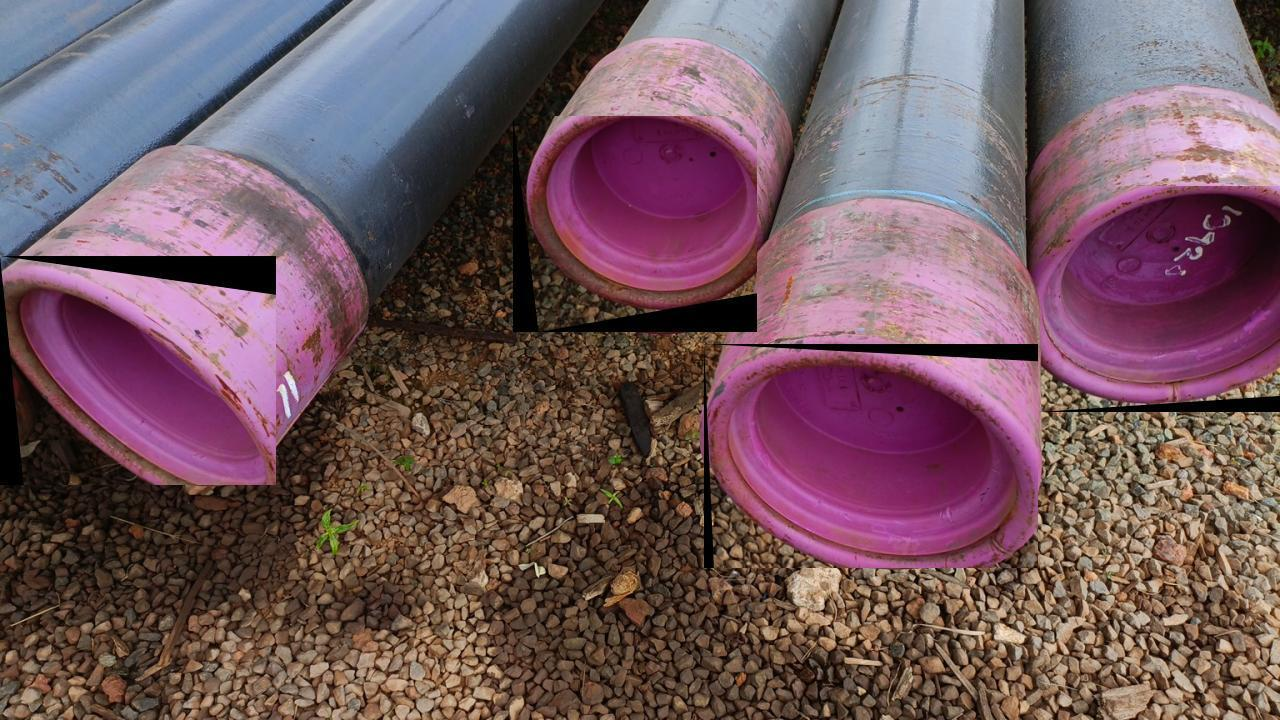pipe: (704, 344, 1038, 568), (0, 256, 276, 485), (1038, 187, 1280, 413), (513, 116, 757, 332)
